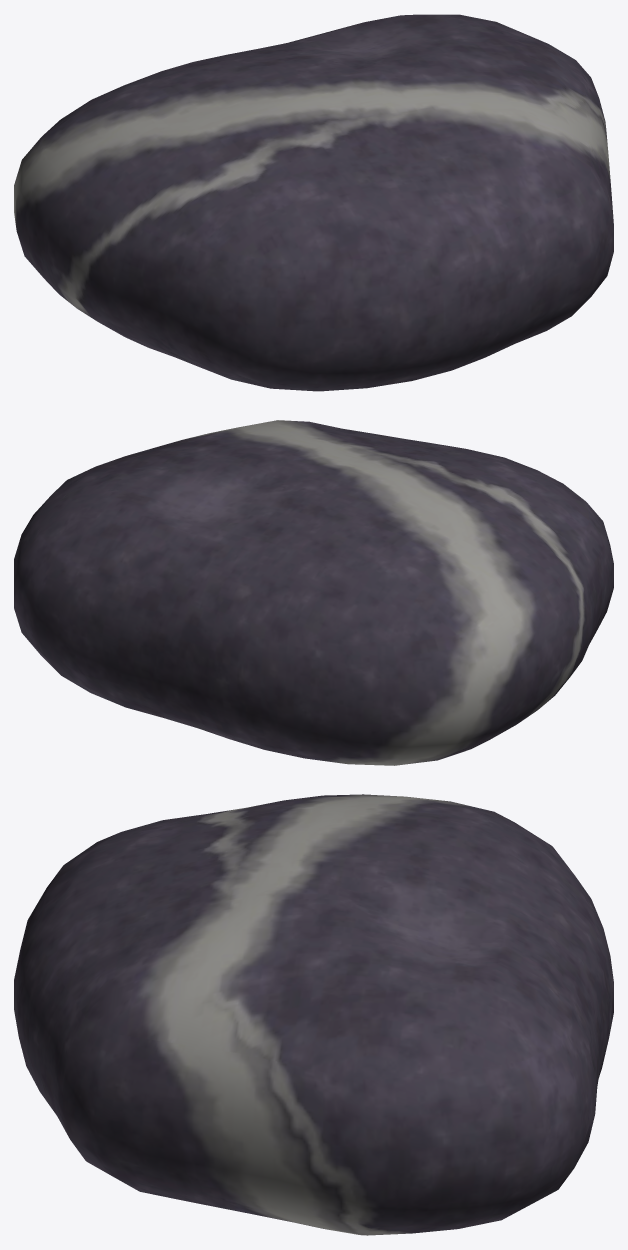
Rendered from quartz_cobble_08.glb.
3 renders of one model, top to bottom at view 1: azimuth 30°, elevation 25°; view 2: azimuth 150°, elevation 25°; view 3: azimuth 270°, elevation 25°, orthographic. The views are drawn at different scales.
Parts seen in each view (by area): view 1: quartz_cobble_08; view 2: quartz_cobble_08; view 3: quartz_cobble_08.
Boxes of the visible parts, x1,y1,x2,y2 form: quartz_cobble_08: [14, 14, 613, 391]; quartz_cobble_08: [14, 420, 613, 765]; quartz_cobble_08: [14, 794, 613, 1235].
Size of the model in its own units: 0.0617 by 0.0272 by 0.051.
Materials: 1 (1 with a texture image).
